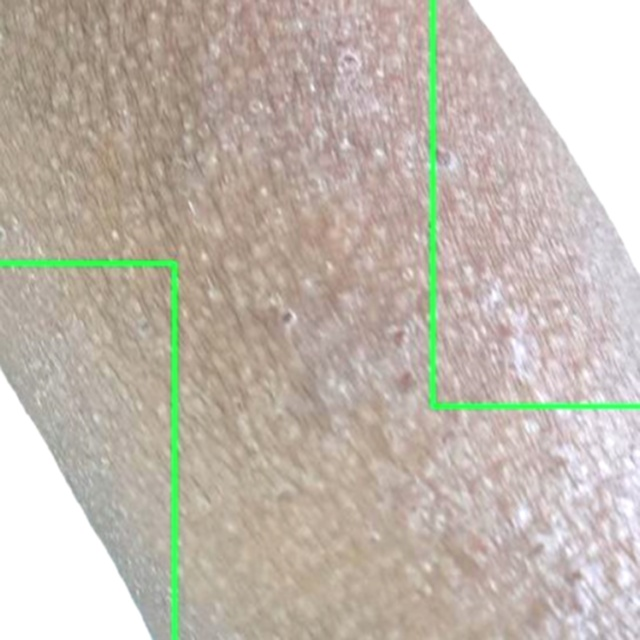Contact Dermatitis: (433, 0, 639, 406), (0, 263, 174, 639)
